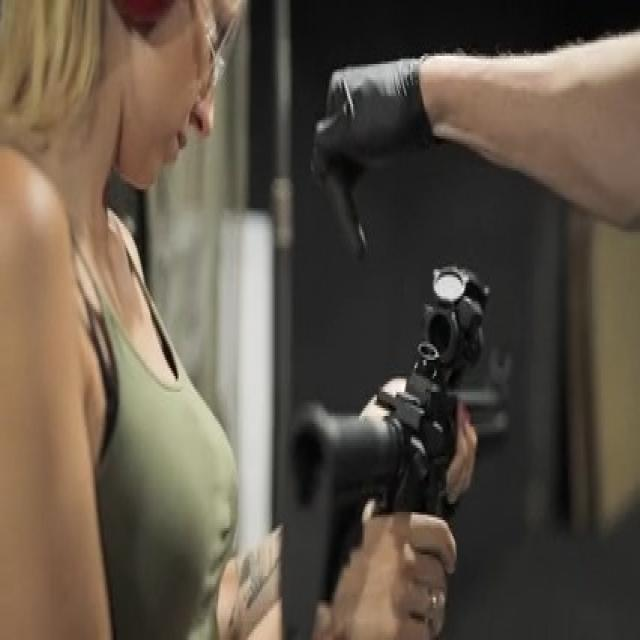Gun_Holder: (236, 237, 604, 640)
Person: (0, 2, 449, 640)
